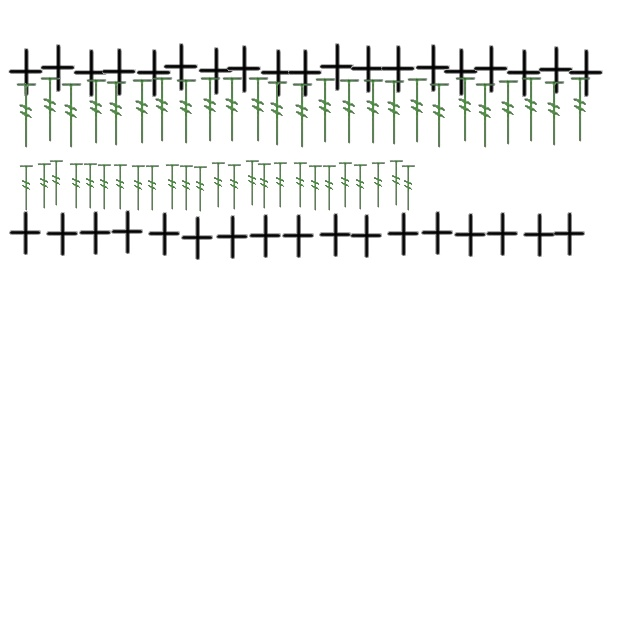double: (6, 48, 44, 98), (38, 44, 76, 94), (99, 48, 137, 98), (413, 44, 451, 94), (441, 48, 479, 98), (536, 46, 574, 96), (71, 50, 109, 98), (134, 50, 172, 98), (161, 44, 199, 92), (196, 48, 234, 96), (224, 46, 262, 94), (258, 50, 296, 98), (285, 50, 323, 98), (317, 44, 355, 92), (348, 46, 386, 94), (378, 46, 416, 94), (471, 46, 509, 94), (504, 50, 542, 98), (566, 50, 604, 98), (44, 212, 80, 258), (146, 212, 182, 258), (280, 214, 316, 260), (348, 214, 384, 260), (484, 212, 520, 258), (214, 216, 250, 260), (452, 214, 488, 258), (110, 210, 144, 256), (180, 216, 214, 262), (248, 214, 282, 260), (386, 212, 420, 258), (552, 212, 586, 258), (8, 212, 42, 256), (78, 212, 112, 256), (318, 214, 352, 258), (420, 212, 454, 256), (522, 214, 556, 258)
fan: (14, 80, 40, 152), (38, 74, 64, 146), (84, 76, 110, 148), (104, 78, 130, 150), (130, 76, 156, 148), (150, 74, 176, 146), (174, 76, 200, 148), (198, 74, 224, 146), (220, 74, 246, 146), (246, 74, 272, 146), (290, 80, 316, 152), (542, 78, 568, 150), (568, 74, 594, 146), (382, 78, 408, 148), (496, 78, 522, 148), (60, 80, 84, 152), (266, 78, 290, 150), (338, 76, 362, 148), (362, 76, 386, 148), (428, 80, 452, 152), (454, 74, 478, 146), (474, 80, 498, 152), (520, 74, 544, 146), (314, 76, 338, 146), (406, 76, 430, 146), (18, 163, 36, 213), (36, 161, 54, 211), (48, 158, 66, 208), (68, 161, 86, 211), (82, 161, 100, 211), (96, 162, 114, 212), (112, 162, 130, 212), (130, 163, 148, 213), (144, 163, 162, 213), (164, 162, 182, 212), (178, 163, 196, 213), (192, 164, 210, 214), (210, 160, 228, 210), (226, 162, 244, 212), (244, 158, 262, 208), (256, 161, 274, 211), (272, 160, 290, 210), (292, 160, 310, 210), (352, 162, 370, 212), (370, 160, 388, 210), (388, 158, 406, 208), (400, 163, 418, 213), (308, 163, 324, 213), (322, 163, 338, 213), (338, 160, 354, 210)
